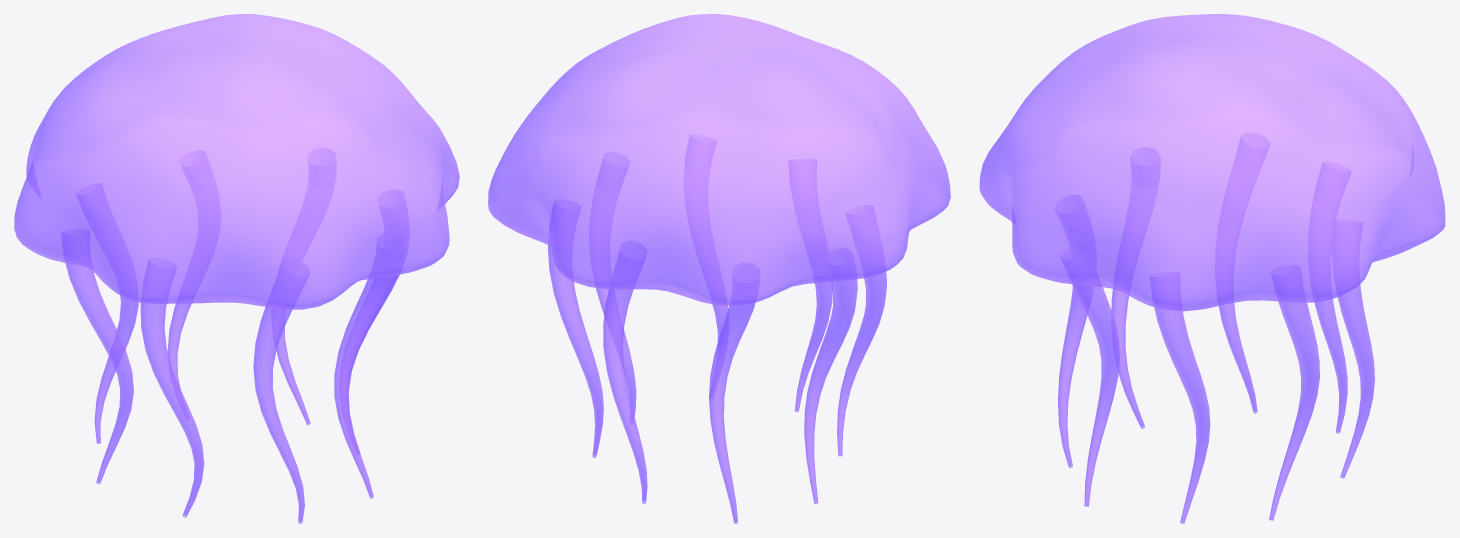
Rendered from jellyfish.glb.
3 views of the same model, side by side, from view 1: azimuth 30°, elevation 25°; view 2: azimuth 150°, elevation 25°; view 3: azimuth 270°, elevation 25° (orthographic). The views are drawn at different scales.
Parts seen in each view (by area): view 1: jellyfish; view 2: jellyfish; view 3: jellyfish.
Part boxes in pixels (bbox=[...]): jellyfish: bbox=[14, 14, 459, 523]; jellyfish: bbox=[488, 14, 950, 523]; jellyfish: bbox=[979, 14, 1445, 523].
Bounding box in the file's own units: 0.0871 × 0.09 × 0.0872.
